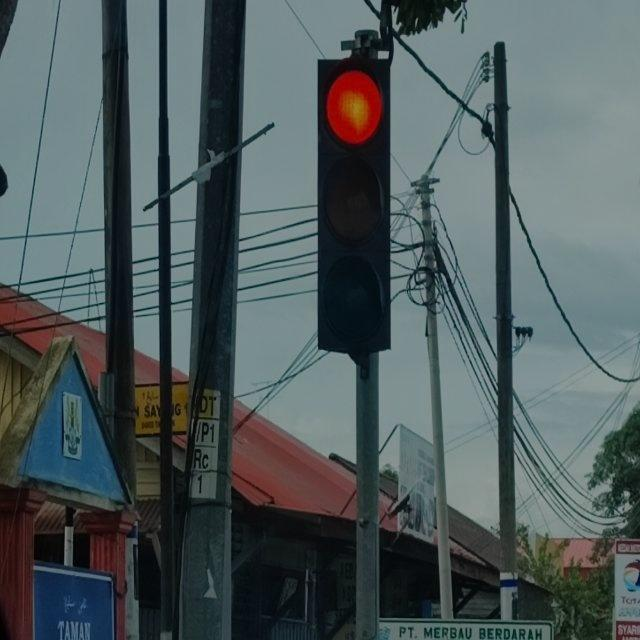Red: (318, 60, 390, 352)
